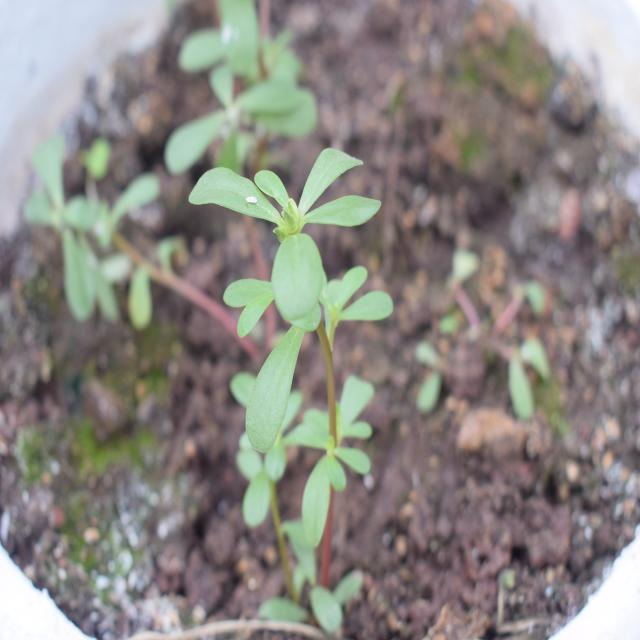purslane: (184, 144, 404, 540)
